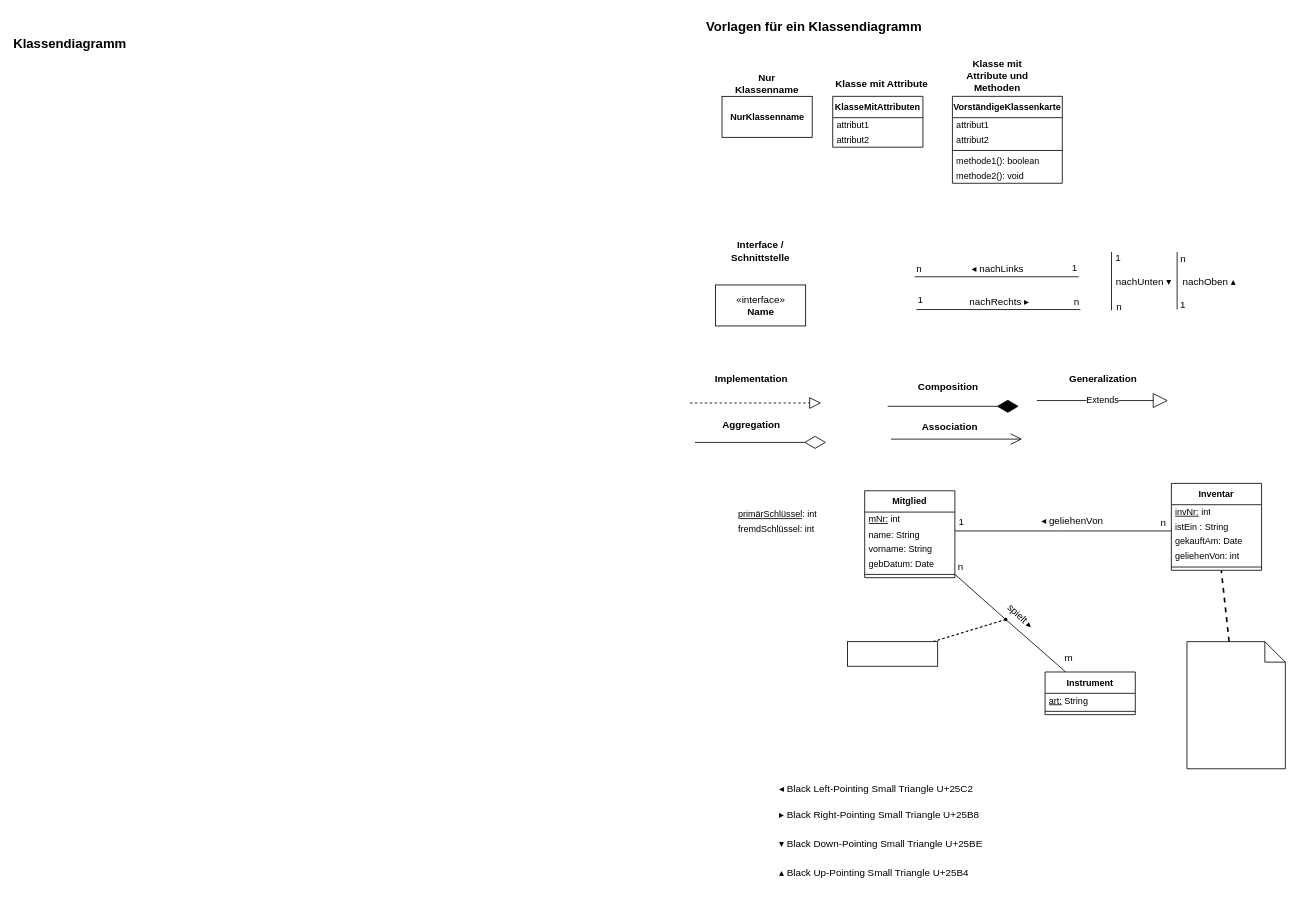
This 1300x899 diagram has some shape labels left out. Here are the shapes that lost their labels. From the top down, the centre of each, then its label:
point (892, 653): niveau: String
point (1235, 705): Ein Kommentar
